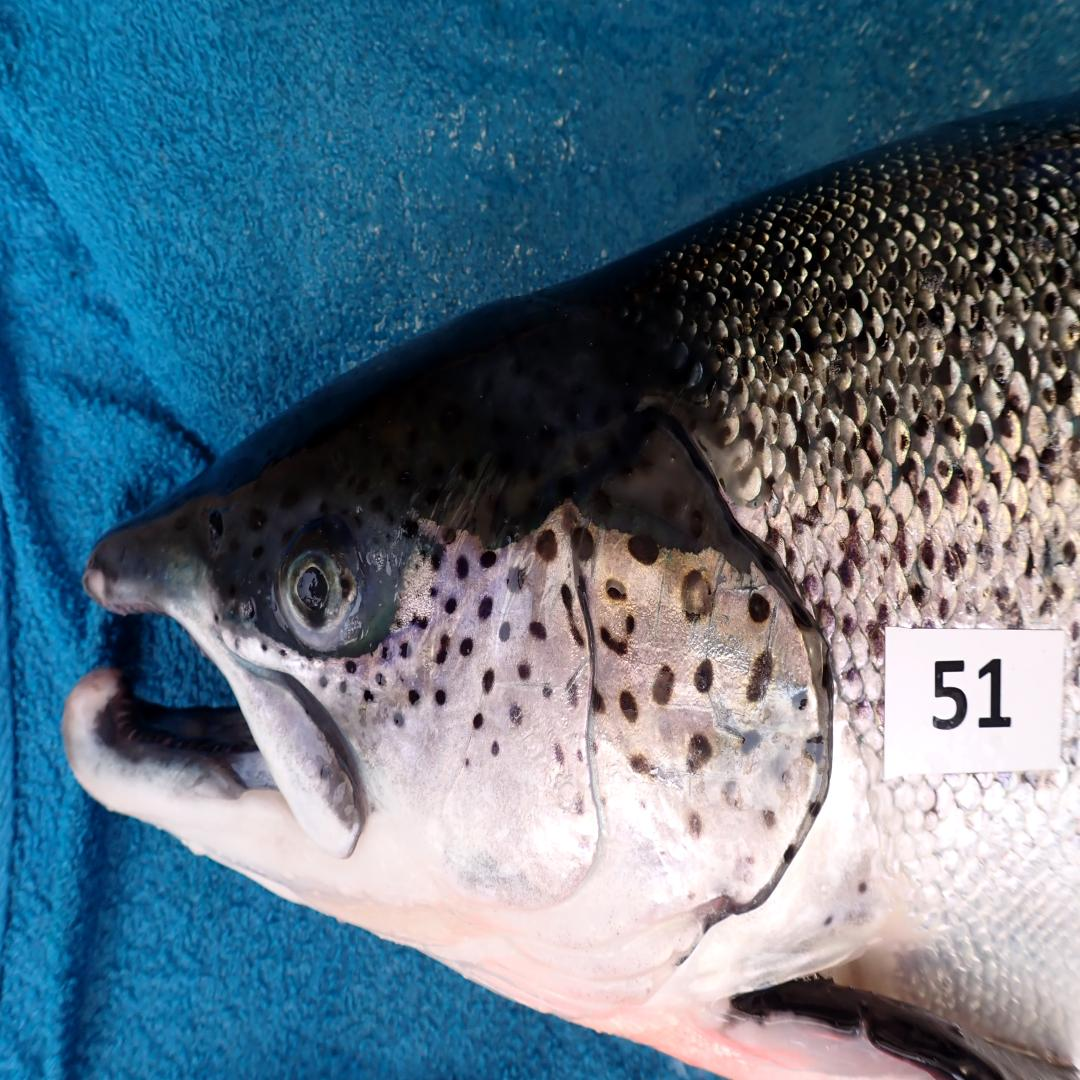roi: (363, 506, 831, 1028)
